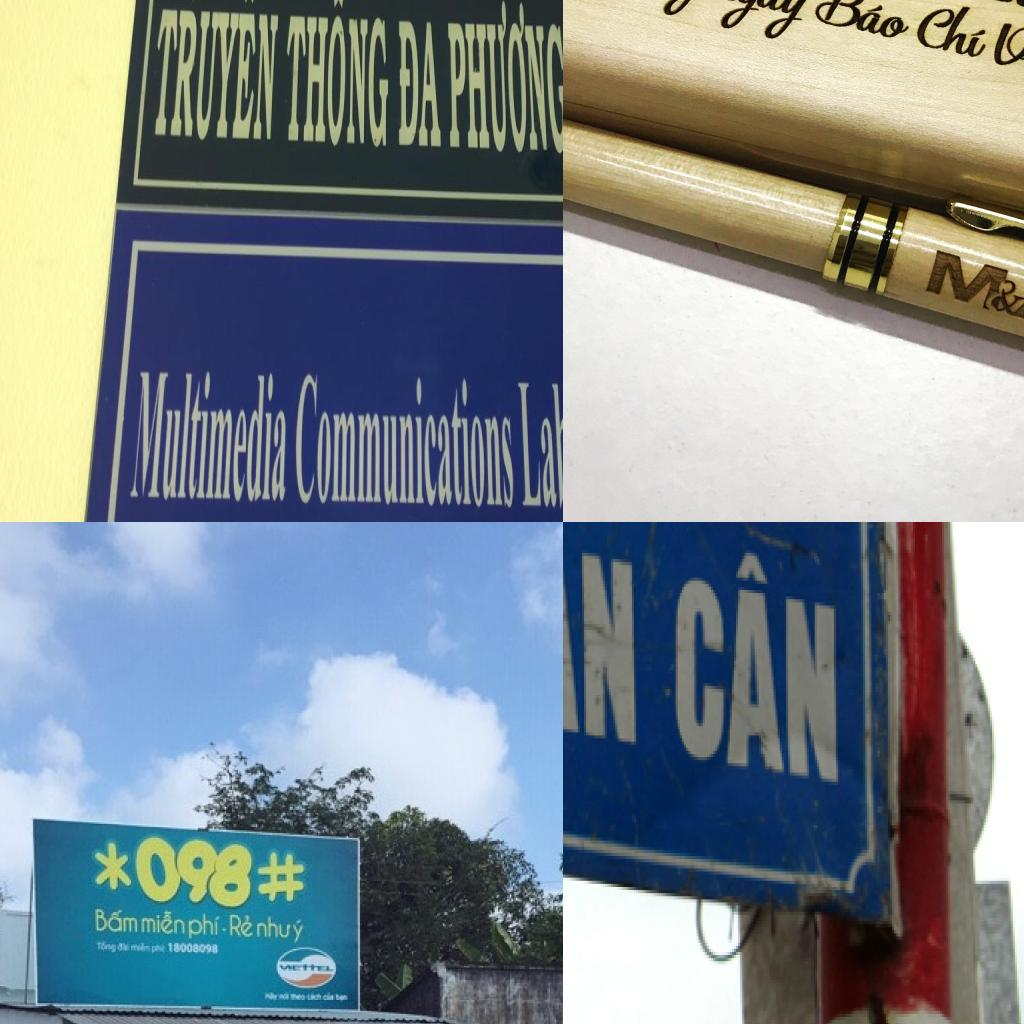text: (294, 362, 517, 522), (128, 354, 289, 514), (147, 0, 287, 144), (563, 525, 640, 785), (448, 0, 563, 161), (281, 0, 390, 151), (921, 246, 1024, 335), (134, 835, 254, 910), (396, 10, 443, 153), (694, 0, 819, 47), (909, 0, 1001, 62), (808, 0, 920, 46), (579, 0, 721, 22), (938, 0, 1024, 34), (984, 17, 1024, 88), (257, 852, 305, 906), (94, 840, 134, 894), (96, 907, 142, 937), (140, 909, 187, 938), (188, 910, 223, 943), (256, 915, 294, 940), (167, 941, 220, 957), (229, 914, 256, 942), (278, 963, 336, 974), (290, 918, 309, 946)
